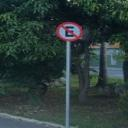NoEstacionar: (56, 21, 82, 42)
